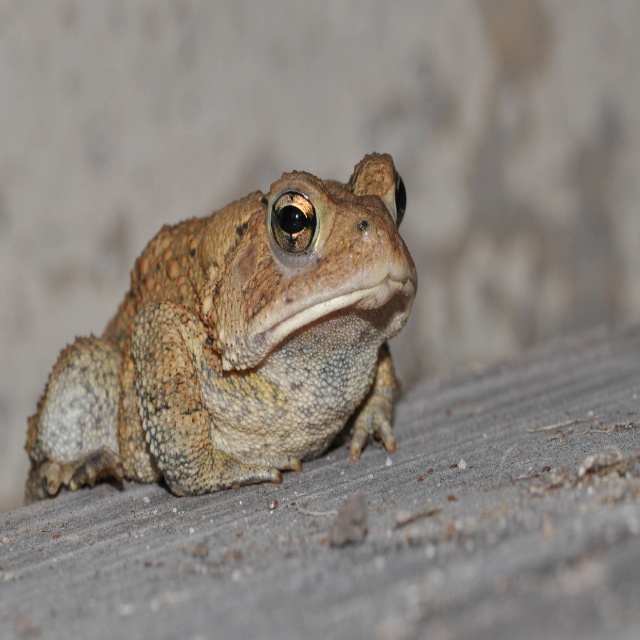Frog: (22, 150, 418, 507)
